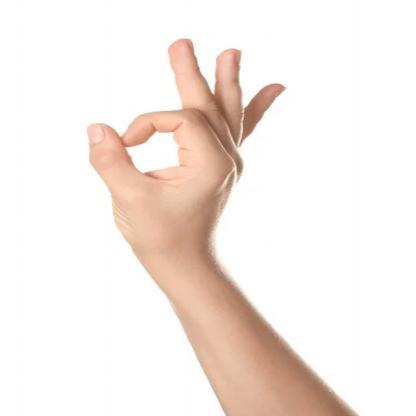ok: (73, 36, 293, 258)
